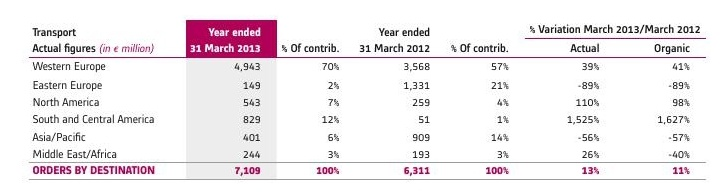table: (0, 0, 721, 195)
